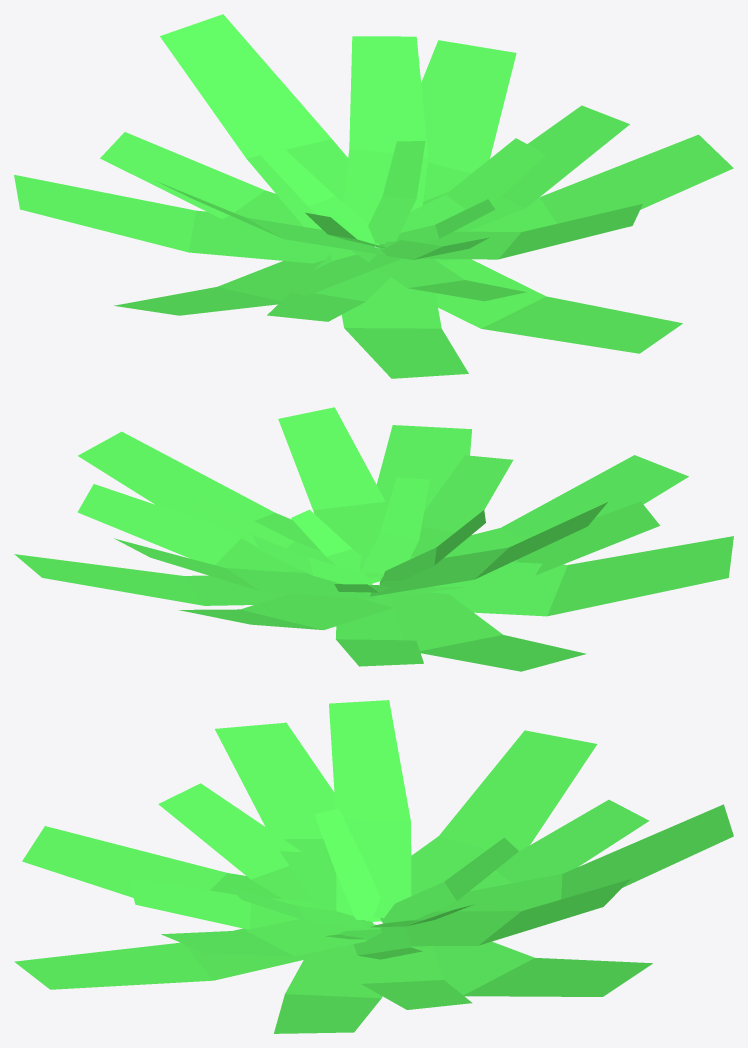
The model's file is Maidenhair Fern.fbx.
3 views of the same model, one above another, from view 1: azimuth 30°, elevation 25°; view 2: azimuth 150°, elevation 25°; view 3: azimuth 270°, elevation 25° (orthographic).
Visible parts, largest first — view 1: Maidenhair Fern; view 2: Maidenhair Fern; view 3: Maidenhair Fern.
Part boxes in pixels (x1,y1,x2,y2): Maidenhair Fern: (14,14,733,378); Maidenhair Fern: (14,407,733,671); Maidenhair Fern: (14,700,733,1033).
Bounding box in the file's own units: 0.7853 × 0.1586 × 0.7888.
